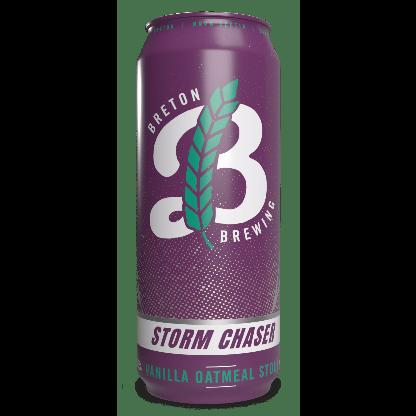Tin_Can: (133, 12, 281, 406)
